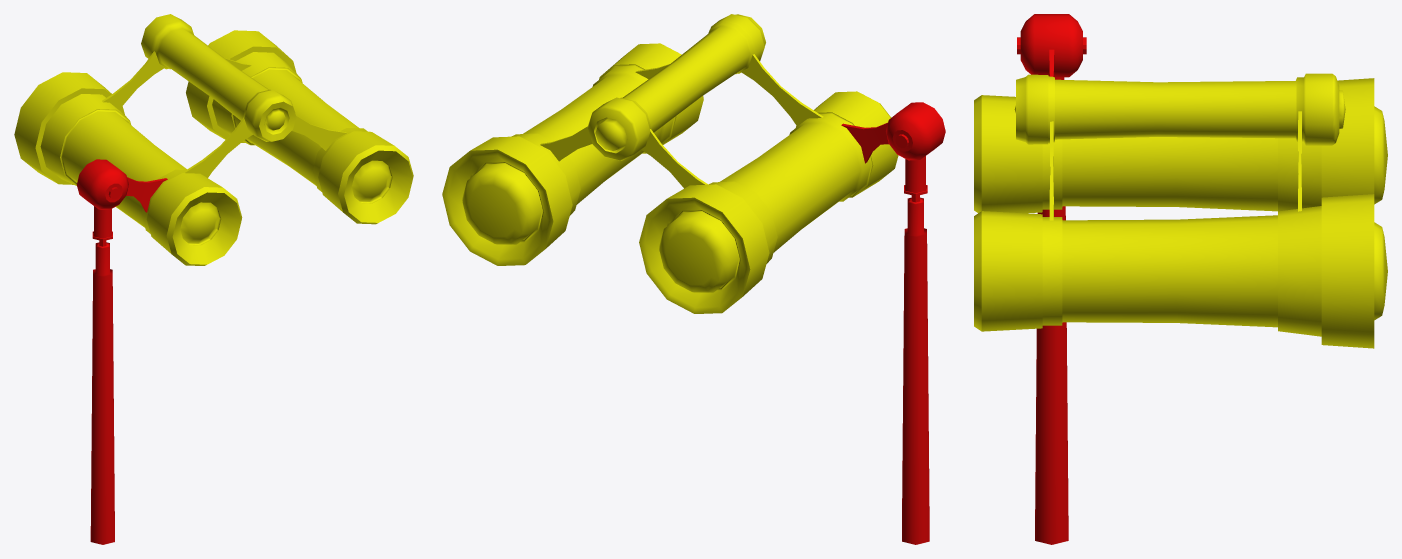
File: std_Piltover_Binoculars.fbx.fbx
3 renders of one model, left to right at view 1: azimuth 30°, elevation 25°; view 2: azimuth 150°, elevation 25°; view 3: azimuth 270°, elevation 25°, orthographic. The views are drawn at different scales.
Visible parts, largest first — view 1: pScope_L, pScope_R, pHandle, pMiddle, pMetalbars; view 2: pScope_L, pScope_R, pHandle, pMiddle, pMetalbars; view 3: pScope_R, pScope_L, pMiddle, pHandle, pMetalbars.
Boxes of the visible parts, x1=… form: pScope_L: x1=14, y1=72, x2=242, y2=265; pScope_R: x1=186, y1=30, x2=413, y2=224; pHandle: x1=77, y1=159, x2=167, y2=544; pMiddle: x1=141, y1=14, x2=296, y2=141; pMetalbars: x1=102, y1=51, x2=346, y2=177; pScope_L: x1=639, y1=91, x2=898, y2=313; pScope_R: x1=442, y1=43, x2=703, y2=265; pHandle: x1=841, y1=102, x2=945, y2=544; pMiddle: x1=587, y1=14, x2=765, y2=160; pMetalbars: x1=540, y1=54, x2=823, y2=188; pScope_R: x1=974, y1=194, x2=1387, y2=348; pScope_L: x1=974, y1=78, x2=1387, y2=213; pMiddle: x1=1014, y1=73, x2=1345, y2=145; pHandle: x1=1017, y1=14, x2=1086, y2=544; pMetalbars: x1=1049, y1=111, x2=1301, y2=220.
Bounding box in the file's own units: 4.68 × 5.8 × 3.83.
